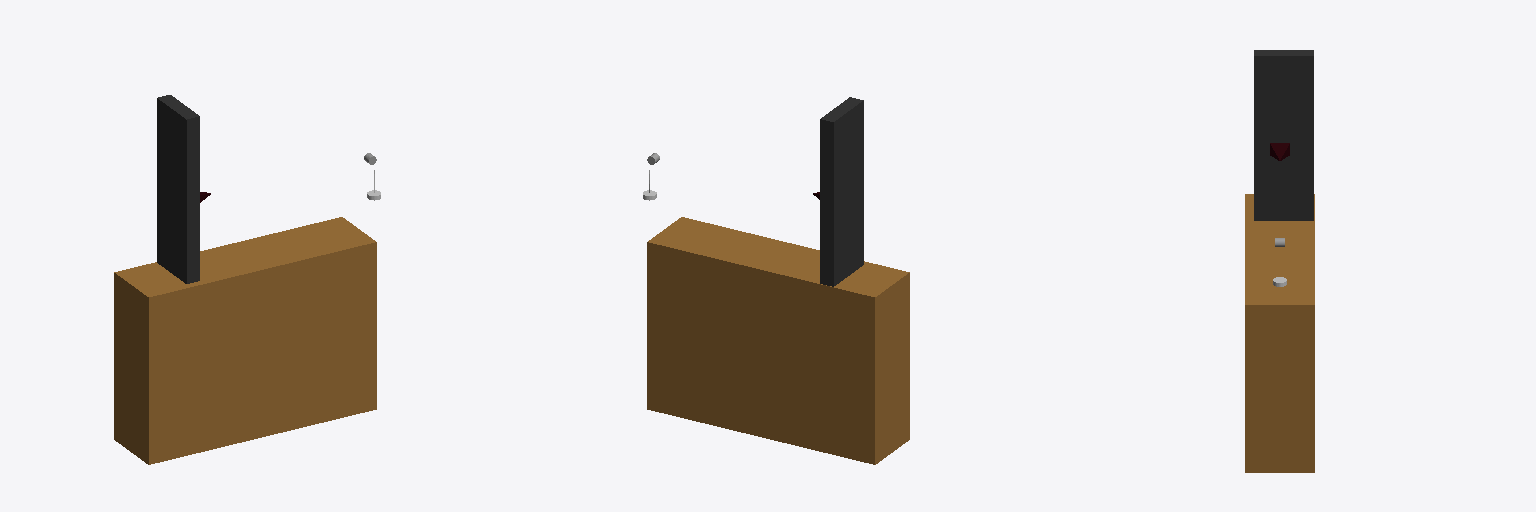
Rendered from string-apparatus.obj.
3 views of the same model, side by side, from view 1: azimuth 30°, elevation 25°; view 2: azimuth 150°, elevation 25°; view 3: azimuth 270°, elevation 25° (orthographic).
Visible parts, largest first — view 1: Desk_desk, Stand_stand; view 2: Desk_desk, Stand_stand; view 3: Desk_desk, Stand_stand.
Part boxes in pixels (x1,y1,x2,y2): Desk_desk: (114,217,376,464); Stand_stand: (157,95,199,283); Desk_desk: (647,217,909,464); Stand_stand: (820,97,863,286); Desk_desk: (1245,194,1314,472); Stand_stand: (1254,50,1313,220).
Size of the model in its own units: 3.11 by 3.97 by 0.7472.